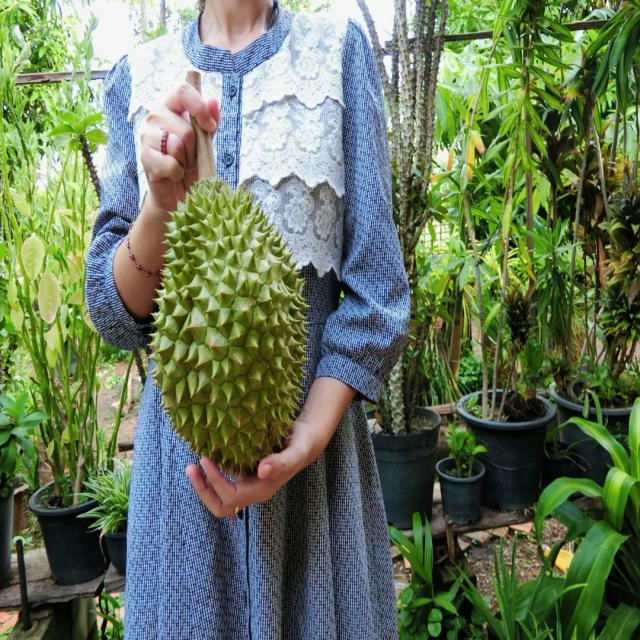immature: (144, 170, 310, 473)
